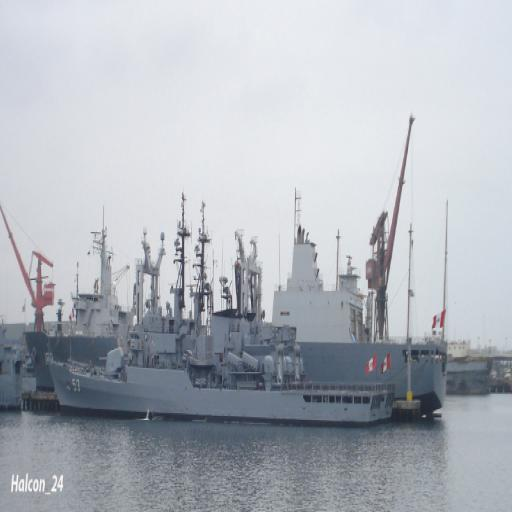Fragata: (45, 222, 400, 433)
